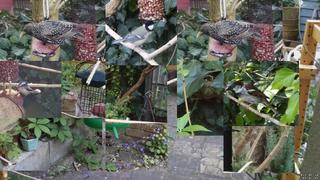great tit: (111, 20, 157, 54)
long tailed tit: (15, 81, 41, 99)
sparrow: (225, 81, 279, 115)
starling: (20, 20, 86, 45), (197, 20, 262, 45)
